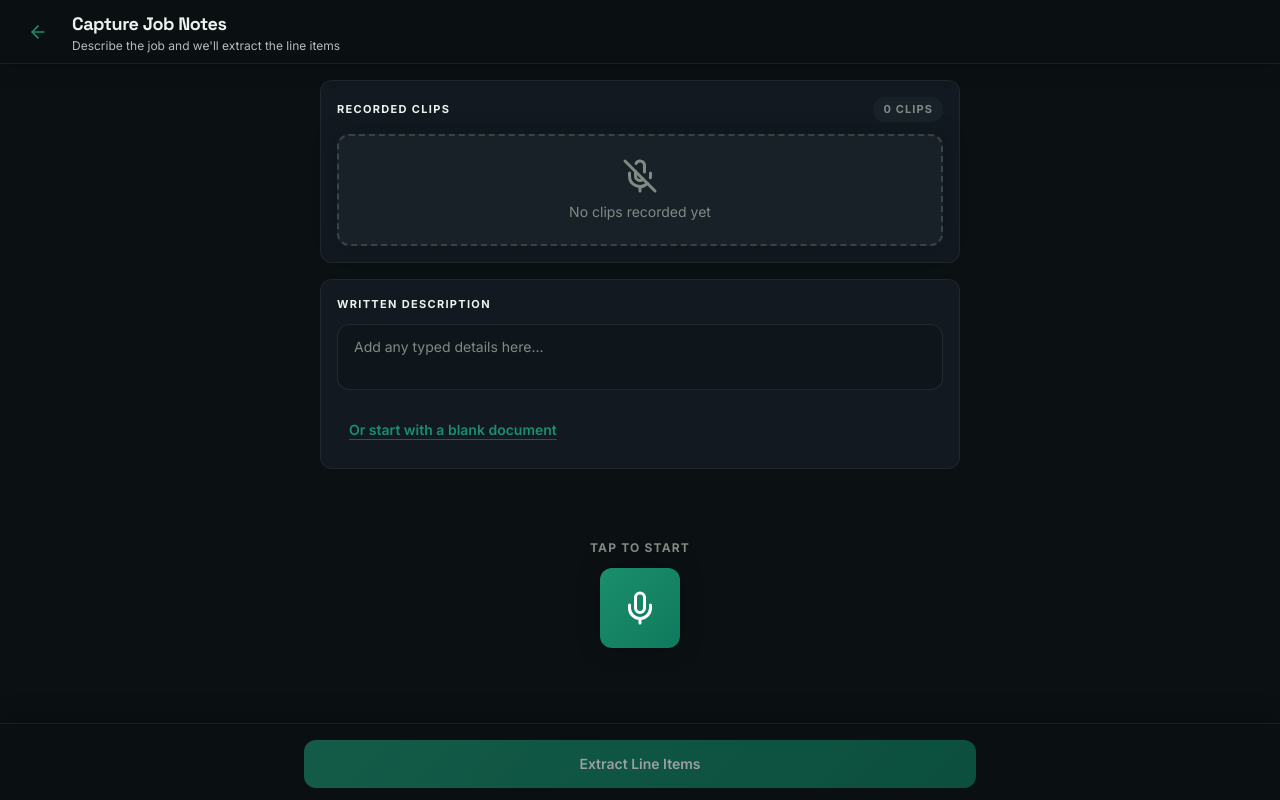
Test: CaptureScreen › marks notes as ready to extract and skips submit while browser is offline
Type "Install sod in backyard" into the text box labelled "WRITTEN DESCRIPTION" at coordinates (640, 357), box left=337, top=324, right=943, bottom=390
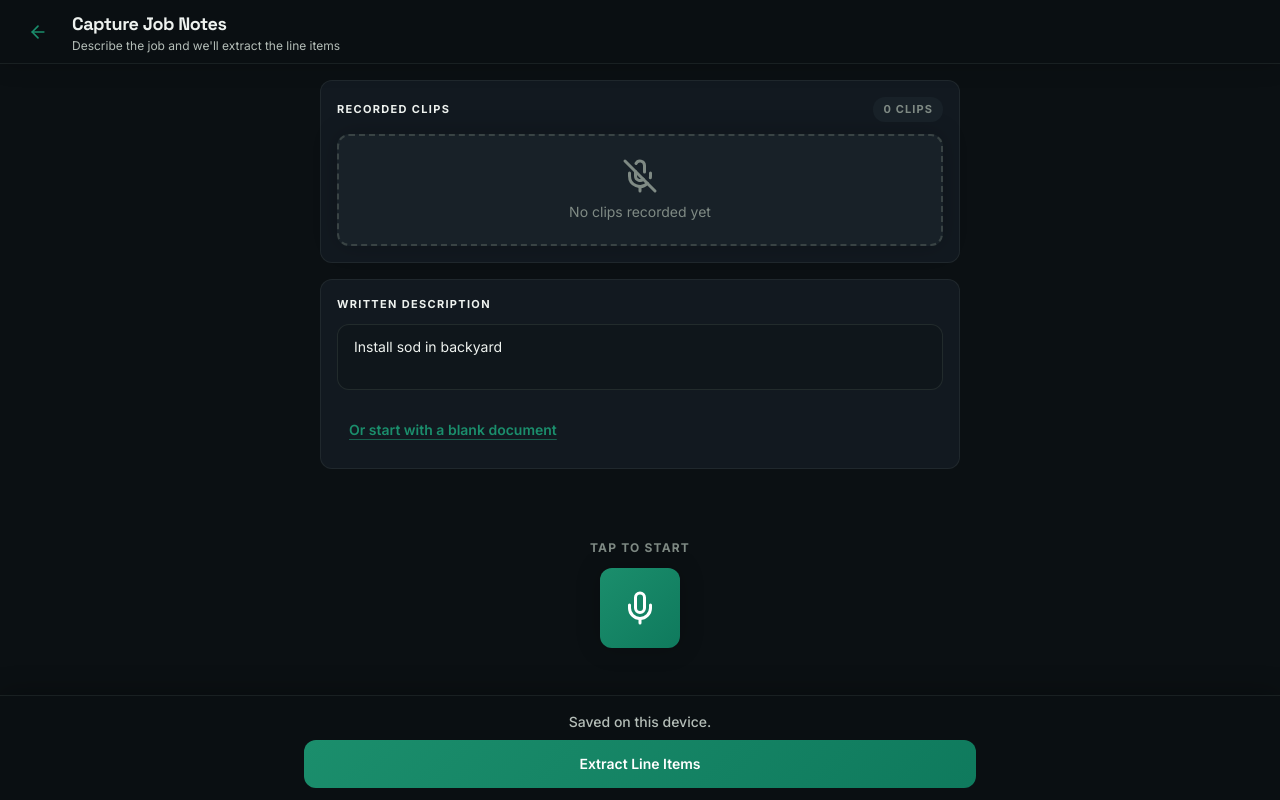
Click the button "Extract Line Items" at coordinates (640, 764), box left=304, top=740, right=976, bottom=788
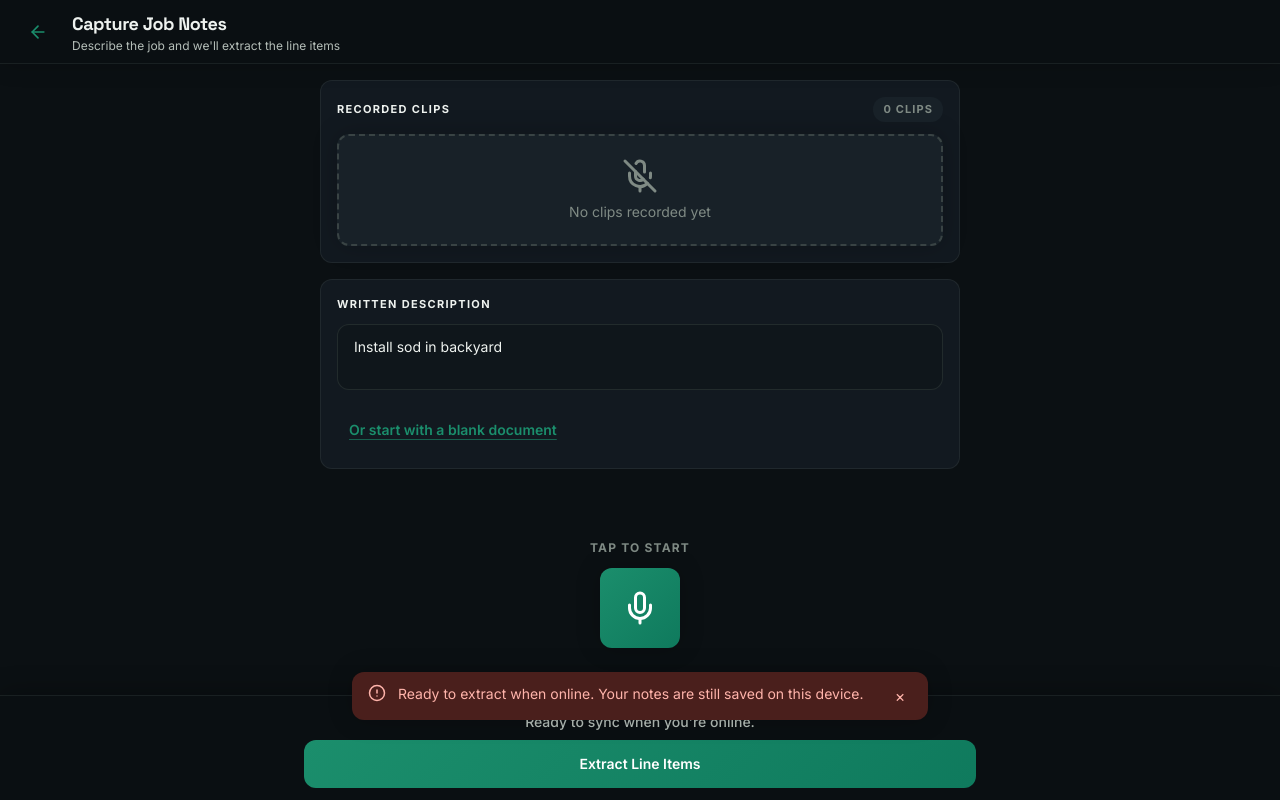
Result: the text "Ready to extract when online. Your notes are still saved on this device." is shown at left=398, top=684, right=876, bottom=704
Result: the text "Ready to sync when you're online." is shown at left=525, top=713, right=755, bottom=730
